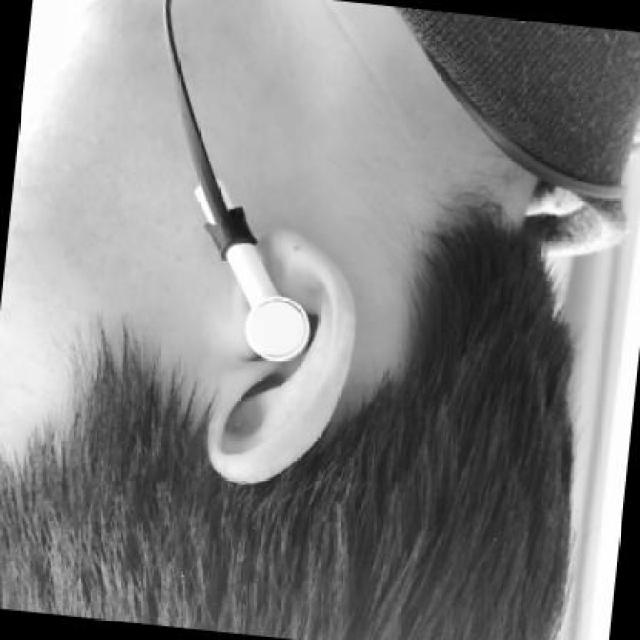earphone: (188, 116, 323, 385)
